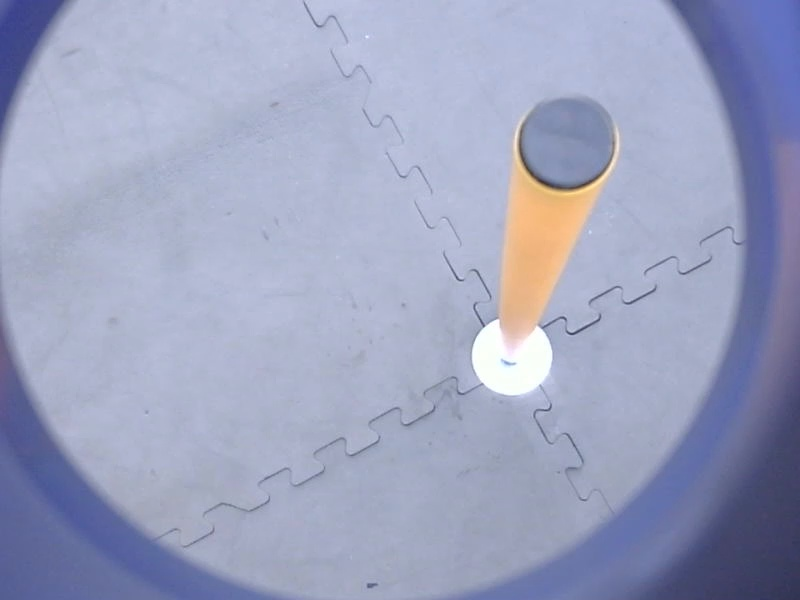tip: (509, 87, 626, 201)
